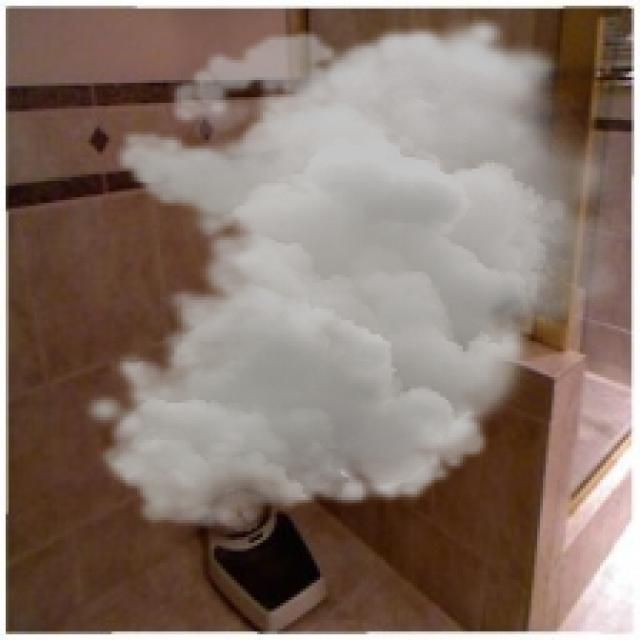smoke: (80, 14, 631, 532)
